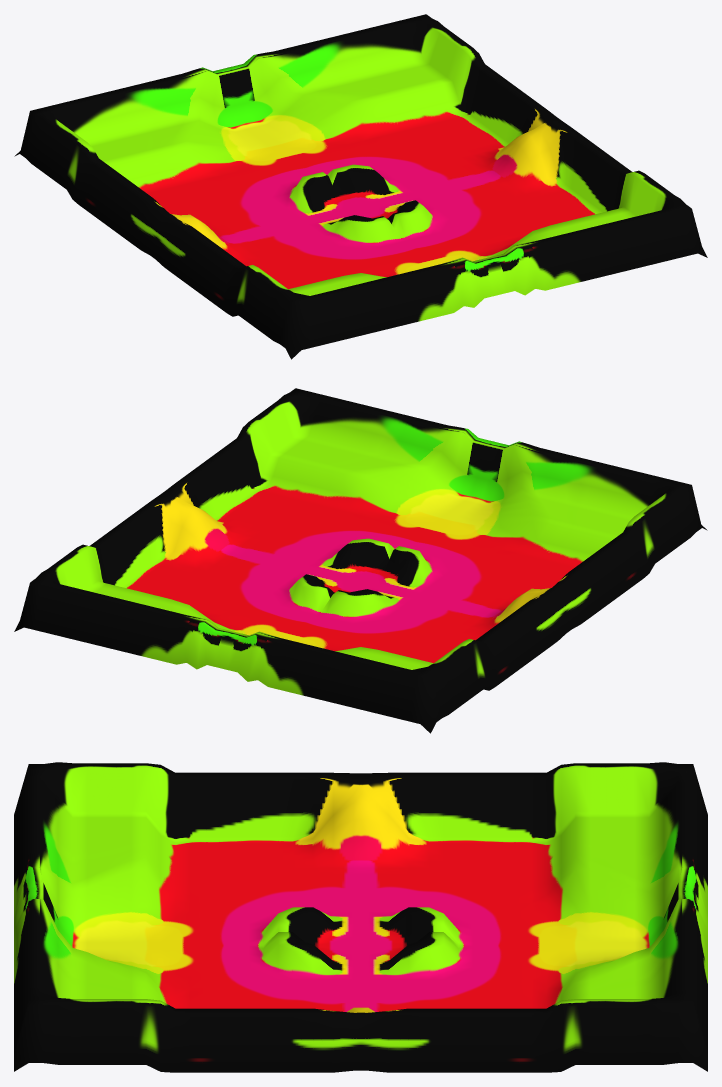
File: arena.glb
3 views of the same model, one above another, from view 1: azimuth 30°, elevation 25°; view 2: azimuth 150°, elevation 25°; view 3: azimuth 270°, elevation 25° (orthographic). The views are drawn at different scales.
Visible parts, largest first — view 1: Plane; view 2: Plane; view 3: Plane.
Boxes of the visible parts, x1,y1,x2,y2 form: Plane: [14, 14, 707, 359]; Plane: [14, 388, 707, 733]; Plane: [14, 762, 707, 1072].
Bounding box in the file's own units: 80.9 × 9.4 × 93.28.
Materials: 1 (1 with a texture image).
